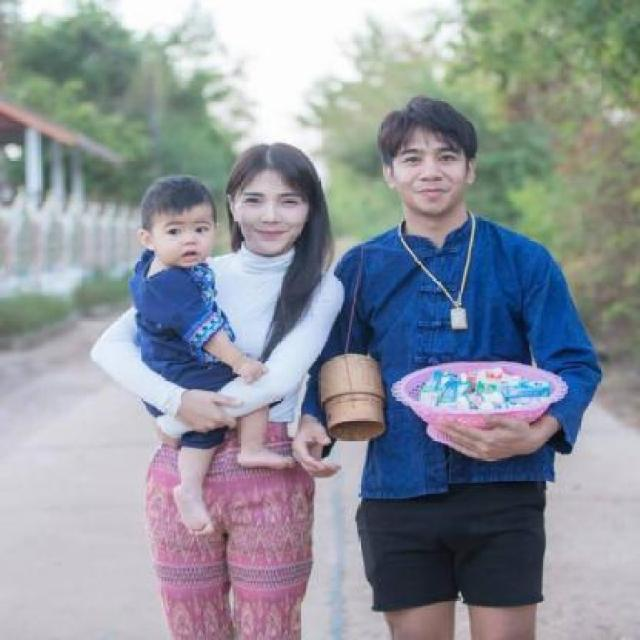sem_oculos: (216, 184, 328, 218), (384, 145, 478, 183), (140, 220, 221, 247)
